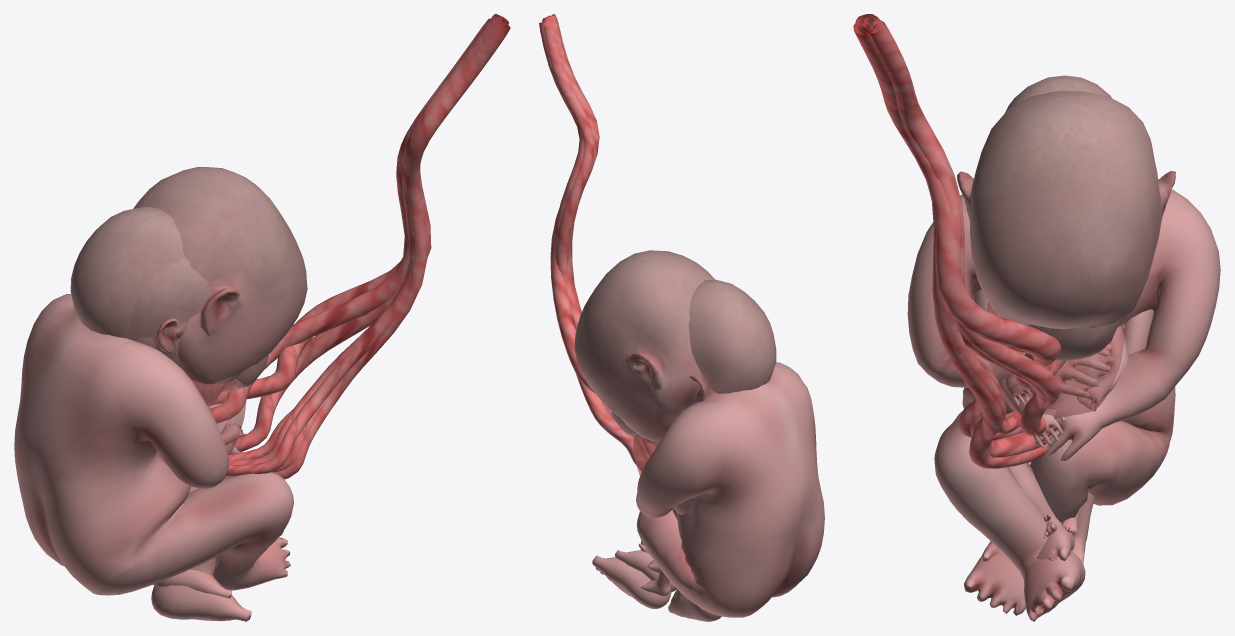
The model's file is Fetos.fbx.
3 views of the same model, side by side, from view 1: azimuth 30°, elevation 25°; view 2: azimuth 150°, elevation 25°; view 3: azimuth 270°, elevation 25° (orthographic). The views are drawn at different scales.
Parts seen in each view (by area): view 1: feto_9, feto_8, feto_7, feto_1, feto_2, feto_5, feto_4, Placenta, feto_6, feto_3; view 2: feto_9, feto_8, feto_3, feto_1, feto_2, feto_5, feto_7, Placenta, feto_6; view 3: feto_9, feto_1, feto_7, feto_8, Placenta, feto_2, feto_6, feto_3, feto_5, feto_4.
Part boxes in pixels (<box>): feto_9: <box>14,167,307,621</box>; feto_8: <box>70,14,504,598</box>; feto_7: <box>121,15,508,479</box>; feto_1: <box>208,23,510,406</box>; feto_2: <box>209,239,409,423</box>; feto_5: <box>216,14,506,464</box>; feto_4: <box>222,26,507,451</box>; Placenta: <box>159,379,246,465</box>; feto_6: <box>194,176,414,472</box>; feto_3: <box>232,18,489,442</box>; feto_9: <box>574,250,824,621</box>; feto_8: <box>542,16,776,592</box>; feto_3: <box>543,24,646,471</box>; feto_1: <box>550,17,652,444</box>; feto_2: <box>539,21,584,329</box>; feto_5: <box>548,15,640,436</box>; feto_7: <box>543,14,670,596</box>; Placenta: <box>633,434,660,475</box>; feto_6: <box>542,21,677,573</box>; feto_9: <box>865,19,1220,621</box>; feto_1: <box>853,19,1065,389</box>; feto_7: <box>855,15,1128,563</box>; feto_8: <box>864,15,1153,561</box>; Placenta: <box>987,301,1124,418</box>; feto_2: <box>862,18,1060,358</box>; feto_6: <box>858,17,1123,533</box>; feto_3: <box>882,21,1060,434</box>; feto_5: <box>858,14,1118,440</box>; feto_4: <box>857,20,1124,435</box>.
Bounding box in the file's own units: 4897 × 7146 × 3318.
